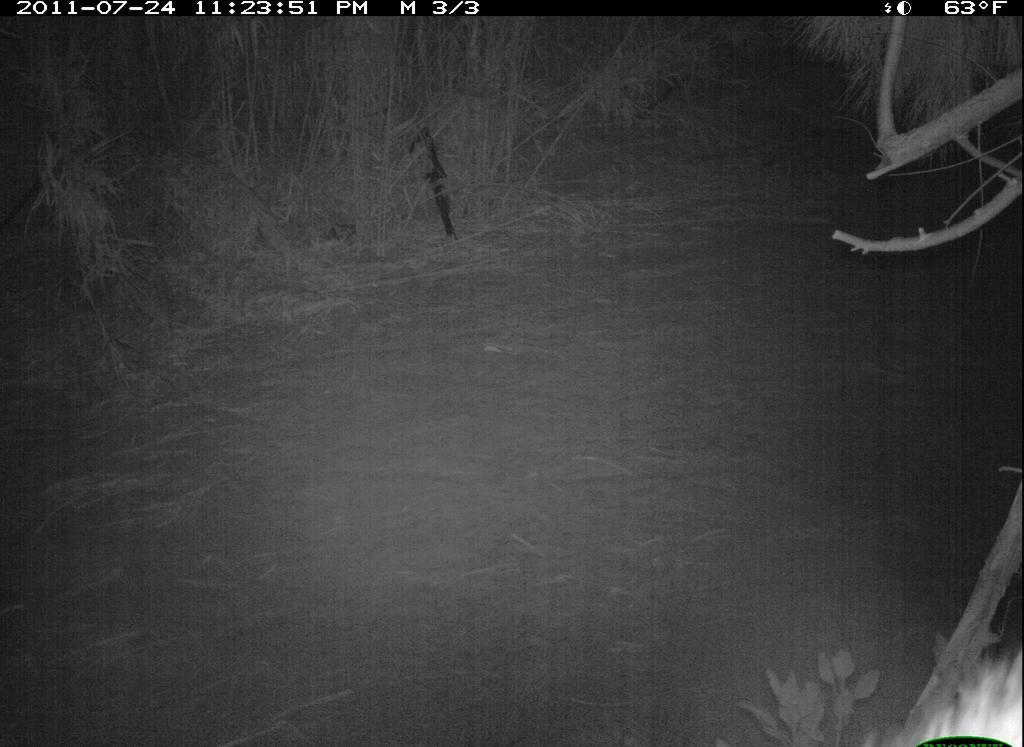raccoon: (900, 649, 1023, 747)
